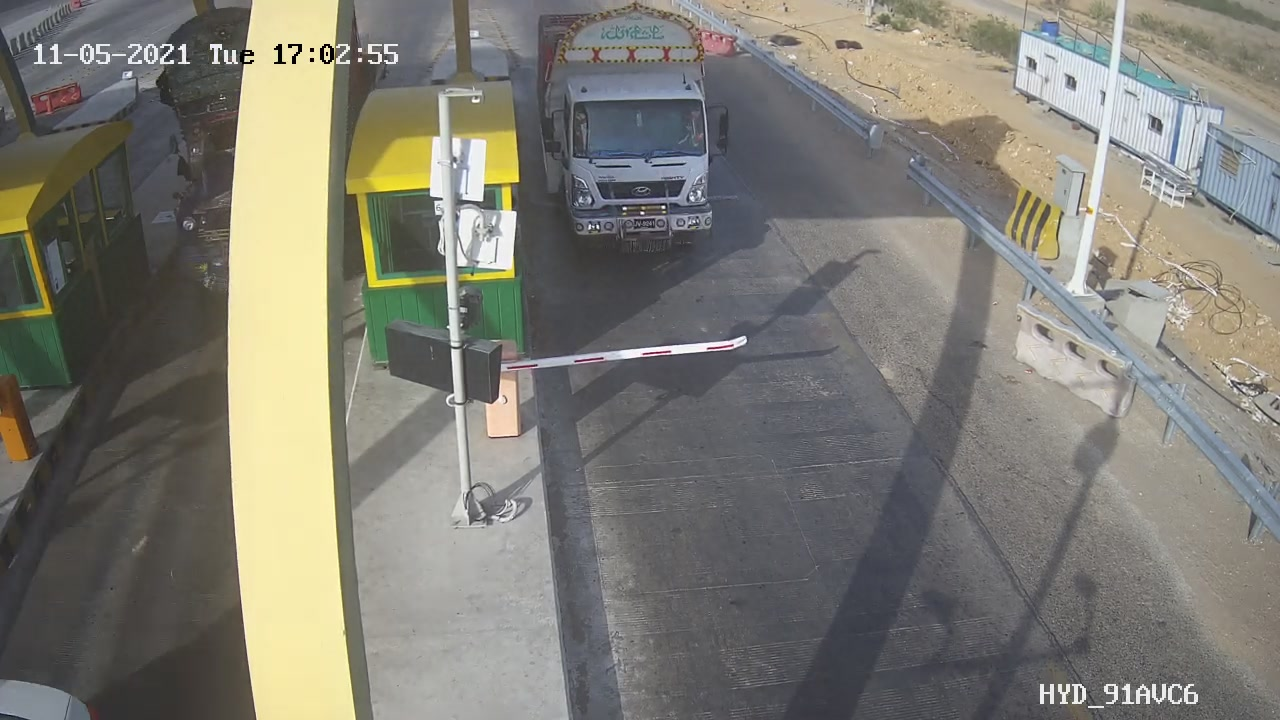F5: (517, 4, 747, 272)
